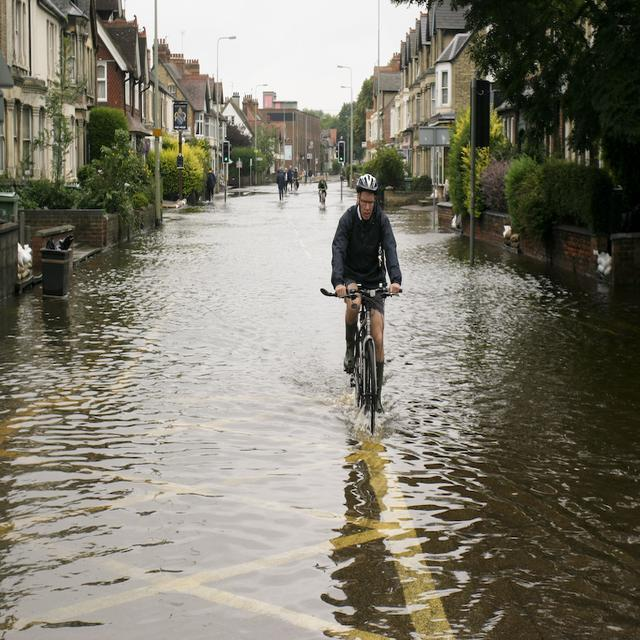Person-RiskLevel2: (316, 168, 414, 433)
